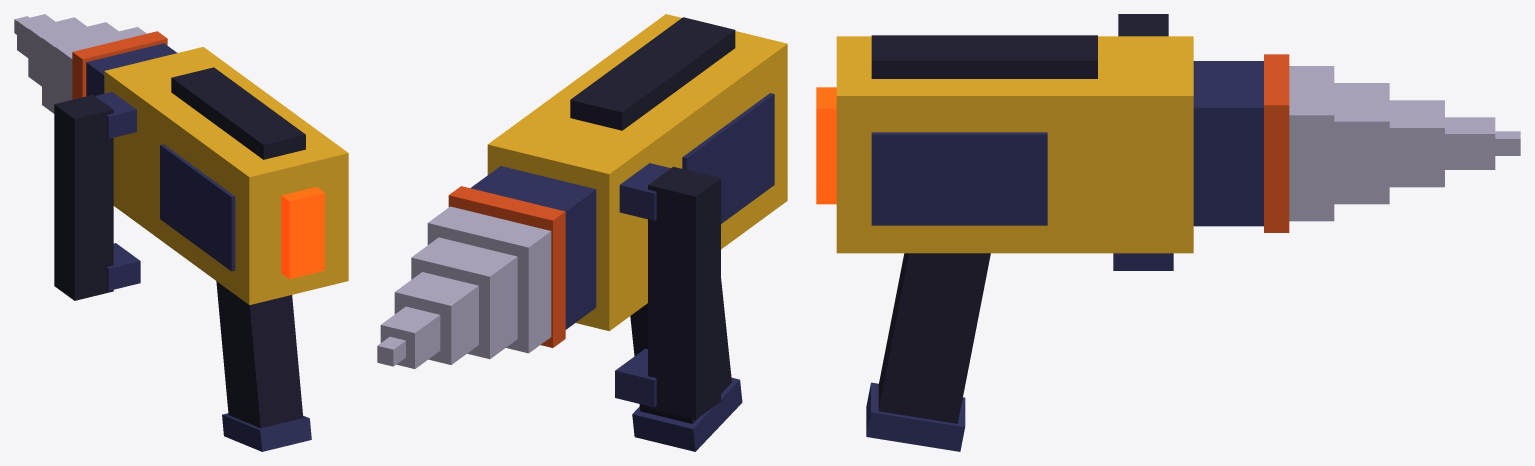
The model's file is mining_drill.lod1.glb.
3 views of the same model, side by side, from view 1: azimuth 30°, elevation 25°; view 2: azimuth 150°, elevation 25°; view 3: azimuth 270°, elevation 25° (orthographic). The views are drawn at different scales.
Visible parts, largest first — view 1: item.mining_drill.body, part.bit; view 2: item.mining_drill.body, part.bit; view 3: item.mining_drill.body, part.bit.
Part boxes in pixels (x1,y1,x2,y2): item.mining_drill.body: (54, 31, 348, 451); part.bit: (14, 14, 146, 113); item.mining_drill.body: (448, 14, 787, 451); part.bit: (377, 206, 551, 368); item.mining_drill.body: (816, 14, 1289, 451); part.bit: (1289, 66, 1520, 221).
Bounding box in the file's own units: 0.2875 × 0.5337 × 0.875.
